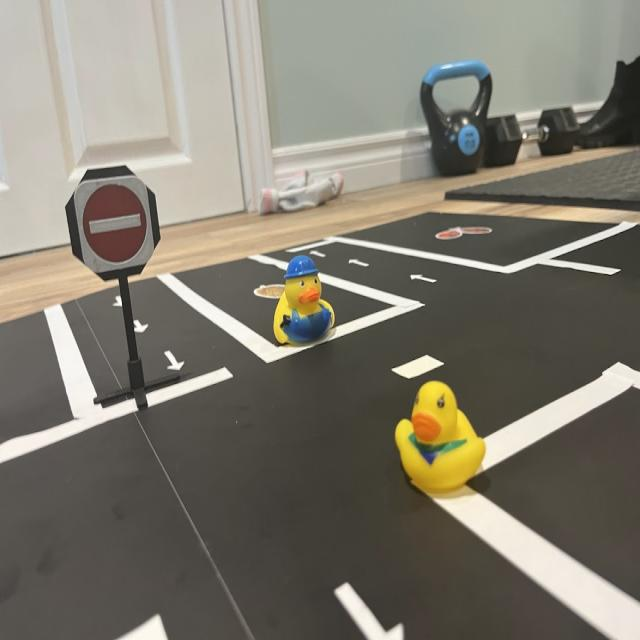duck_regular: (394, 376, 493, 499)
duck_specialty: (273, 252, 339, 349)
road_oneway: (333, 579, 411, 640), (163, 345, 188, 377), (409, 270, 439, 290), (349, 255, 377, 274), (132, 316, 153, 339), (111, 287, 127, 312), (311, 248, 328, 262)
sign_noentry: (76, 174, 157, 275)
